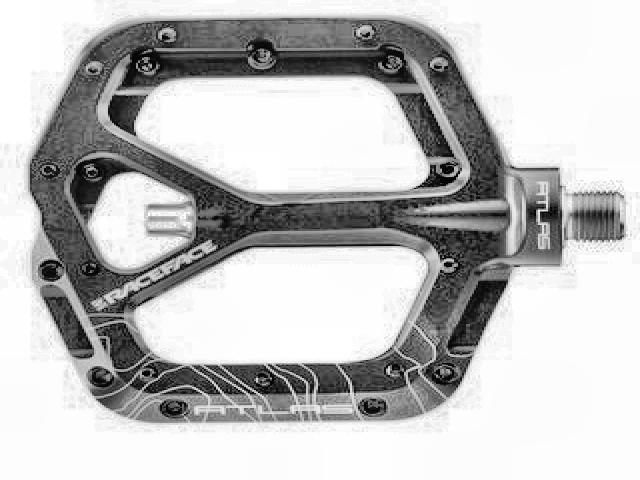pedal: (26, 15, 626, 428)
